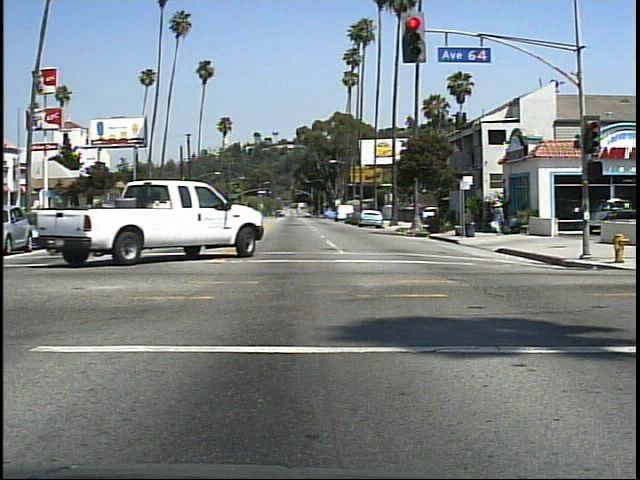person: (487, 196, 513, 242)
